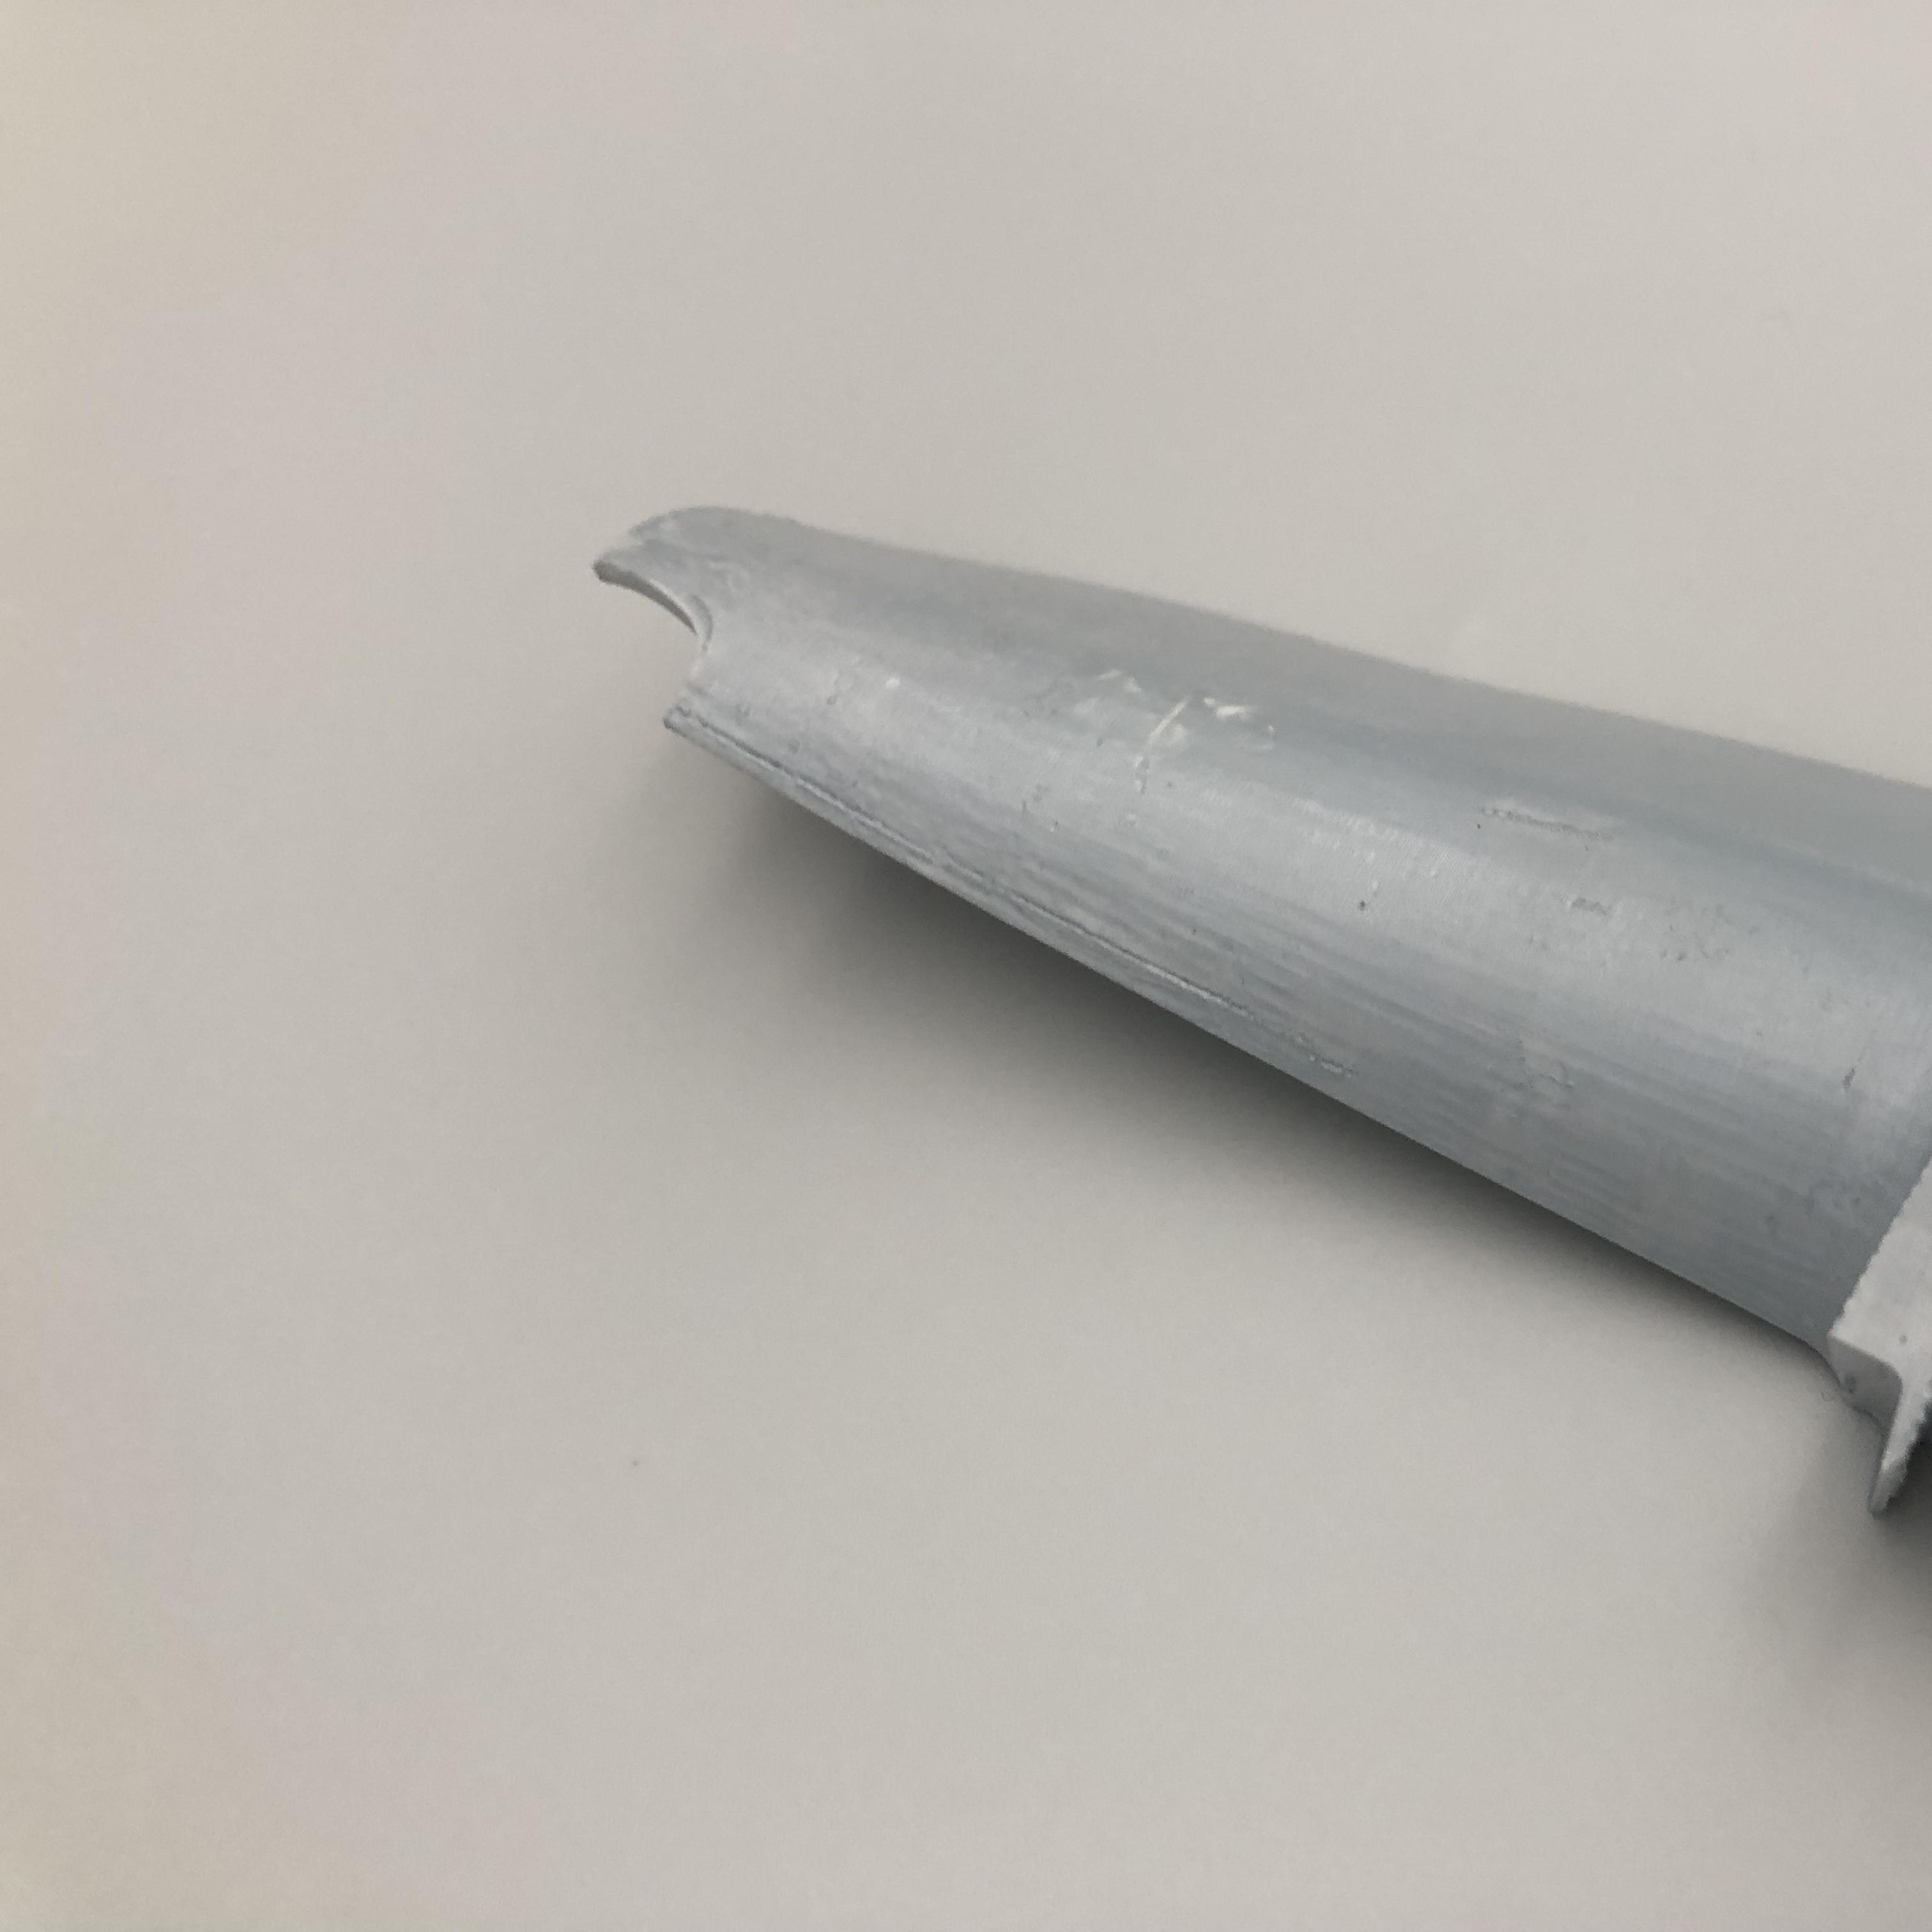fracture: (582, 543, 763, 734)
